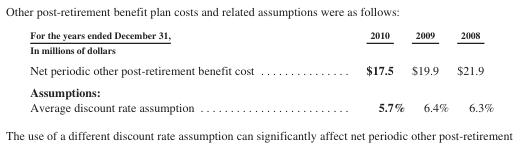table: (29, 29, 493, 113)
table column: (29, 29, 309, 113), (309, 29, 407, 113), (407, 29, 452, 113), (452, 29, 493, 113)
table column header: (29, 29, 493, 41)
table projected row header: (29, 80, 493, 99), (29, 41, 493, 58)
table row: (29, 58, 493, 80), (29, 80, 493, 99), (29, 41, 493, 58), (29, 99, 493, 113), (29, 29, 493, 41)
